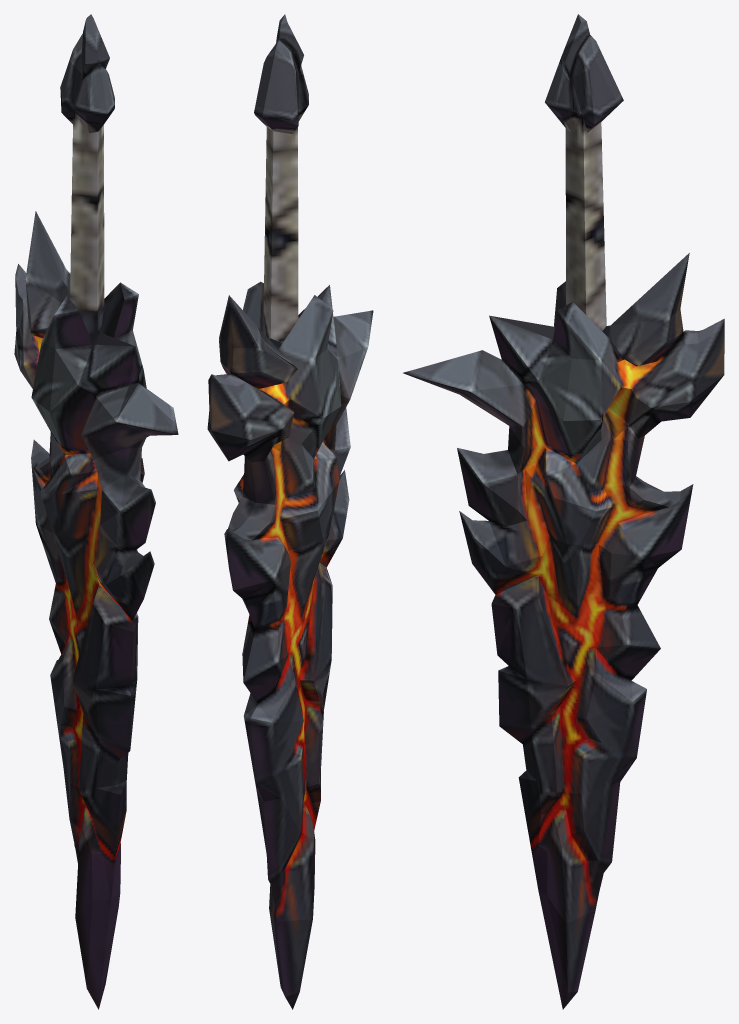
Rendered from weapon_surtr_sword.fbx.
3 renders of one model, left to right at view 1: azimuth 30°, elevation 25°; view 2: azimuth 150°, elevation 25°; view 3: azimuth 270°, elevation 25°, orthographic.
Parts seen in each view (by area): view 1: weapon_surtr_sword; view 2: weapon_surtr_sword; view 3: weapon_surtr_sword.
Part boxes in pixels (bbox=[...]): weapon_surtr_sword: bbox=[14, 14, 178, 1009]; weapon_surtr_sword: bbox=[207, 14, 373, 1009]; weapon_surtr_sword: bbox=[403, 14, 724, 1009].
Bounding box in the file's own units: 17.34 × 170 × 49.76.
